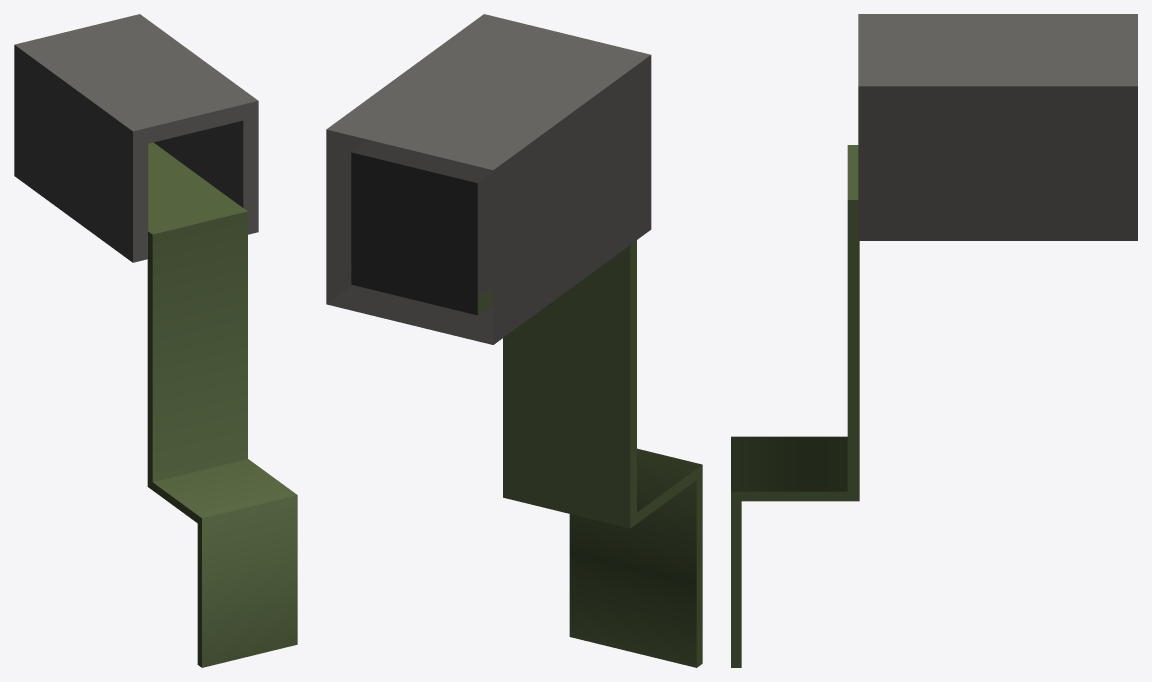
File: AI_Env_Sewer_Pipe_01.fbx
3 renders of one model, left to right at view 1: azimuth 30°, elevation 25°; view 2: azimuth 150°, elevation 25°; view 3: azimuth 270°, elevation 25°, orthographic. The views are drawn at different scales.
Visible parts, largest first — view 1: AI_Env_Sewer_Pipe_01; view 2: AI_Env_Sewer_Pipe_01; view 3: AI_Env_Sewer_Pipe_01.
Part boxes in pixels (x1,y1,x2,y2): AI_Env_Sewer_Pipe_01: [14, 14, 297, 667]; AI_Env_Sewer_Pipe_01: [326, 14, 702, 667]; AI_Env_Sewer_Pipe_01: [731, 14, 1137, 667].
Bounding box in the file's own units: 0.6725 × 2.56 × 1.6.
